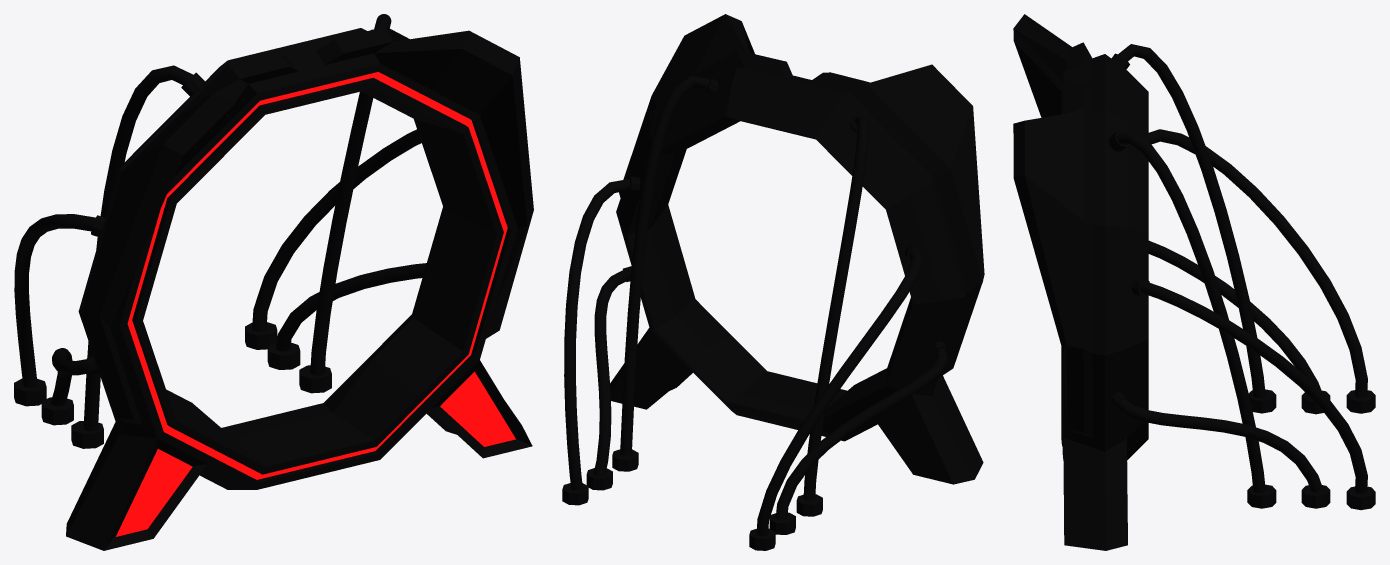
File: Portal.fbx
The picture shows the model from 3 angles, left to right: view 1: azimuth 30°, elevation 25°; view 2: azimuth 150°, elevation 25°; view 3: azimuth 270°, elevation 25°; orthographic projection. The views are drawn at different scales.
Parts seen in each view (by area): view 1: Torus, BezierCurve, BezierCurve.002, Torus.001, Torus.002, BezierCurve.001, Cylinder, Cylinder.003, Cylinder.005, Cylinder.004, Cylinder.002, Cylinder.001; view 2: Torus, BezierCurve, BezierCurve.002, BezierCurve.001; view 3: Torus, BezierCurve, BezierCurve.002, BezierCurve.001, Cylinder.001, Cylinder.004, Cylinder.002, Cylinder, Cylinder.005.
Boxes of the visible parts, bbox=[...] form: Torus: bbox=[66, 26, 533, 550]; BezierCurve: bbox=[83, 14, 391, 430]; BezierCurve.002: bbox=[14, 129, 421, 387]; Torus.001: bbox=[127, 72, 507, 479]; Torus.002: bbox=[116, 371, 515, 536]; BezierCurve.001: bbox=[50, 263, 426, 406]; Cylinder: bbox=[267, 342, 300, 369]; Cylinder.003: bbox=[41, 397, 73, 425]; Cylinder.005: bbox=[71, 421, 103, 448]; Cylinder.004: bbox=[14, 378, 46, 406]; Cylinder.002: bbox=[299, 365, 331, 393]; Cylinder.001: bbox=[245, 322, 277, 349]; Torus: bbox=[610, 14, 984, 484]; BezierCurve: bbox=[620, 75, 868, 500]; BezierCurve.002: bbox=[564, 179, 922, 535]; BezierCurve.001: bbox=[593, 270, 947, 520]; Torus: bbox=[1013, 14, 1150, 550]; BezierCurve: bbox=[1117, 44, 1265, 492]; BezierCurve.002: bbox=[1140, 129, 1367, 493]; BezierCurve.001: bbox=[1117, 240, 1323, 492]; Cylinder.001: bbox=[1346, 486, 1375, 510]; Cylinder.004: bbox=[1346, 390, 1375, 413]; Cylinder.002: bbox=[1247, 484, 1276, 508]; Cylinder: bbox=[1301, 485, 1330, 508]; Cylinder.005: bbox=[1249, 389, 1276, 413].
Bounding box in the file's own units: 402 × 383 × 323.
